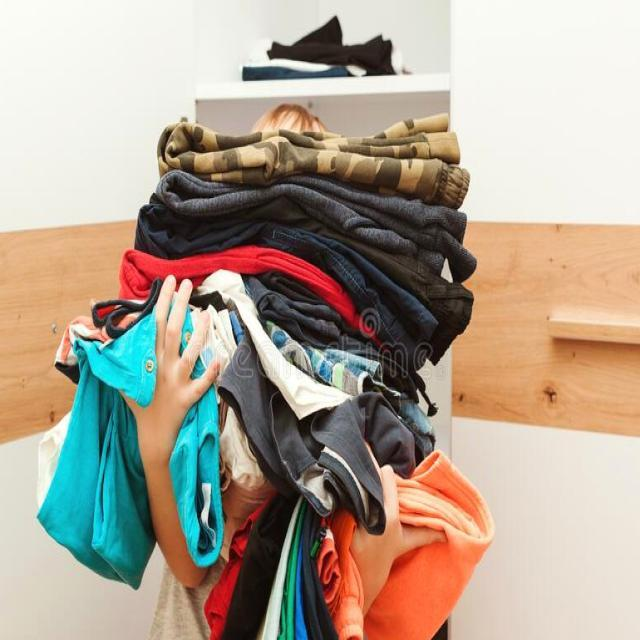clothes: (153, 127, 494, 640)
